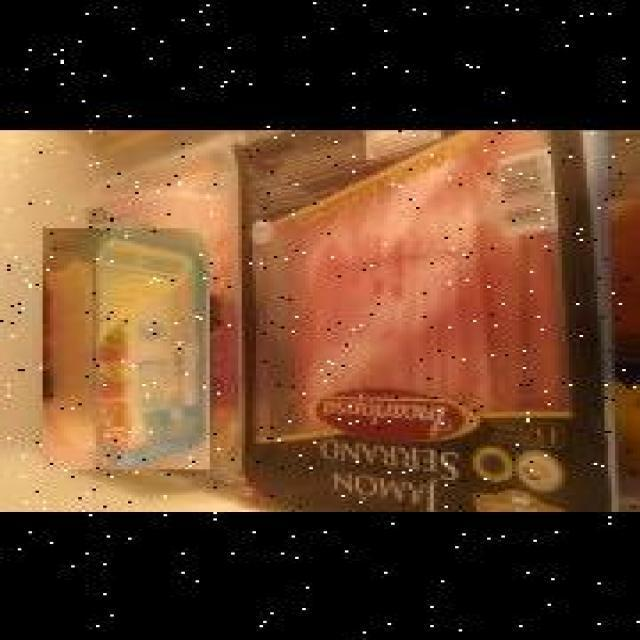cheese: (42, 226, 210, 467)
